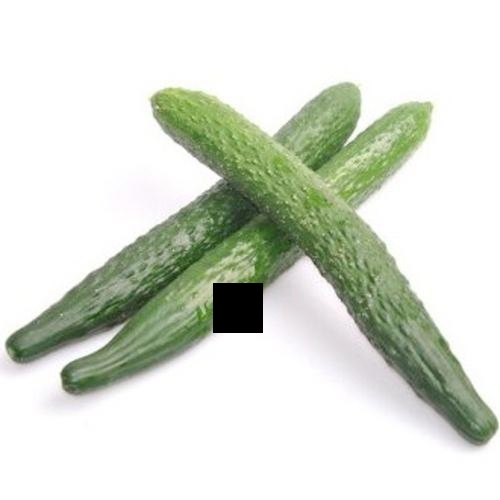cucumber: (155, 86, 493, 436), (71, 100, 433, 397), (8, 84, 356, 349)
